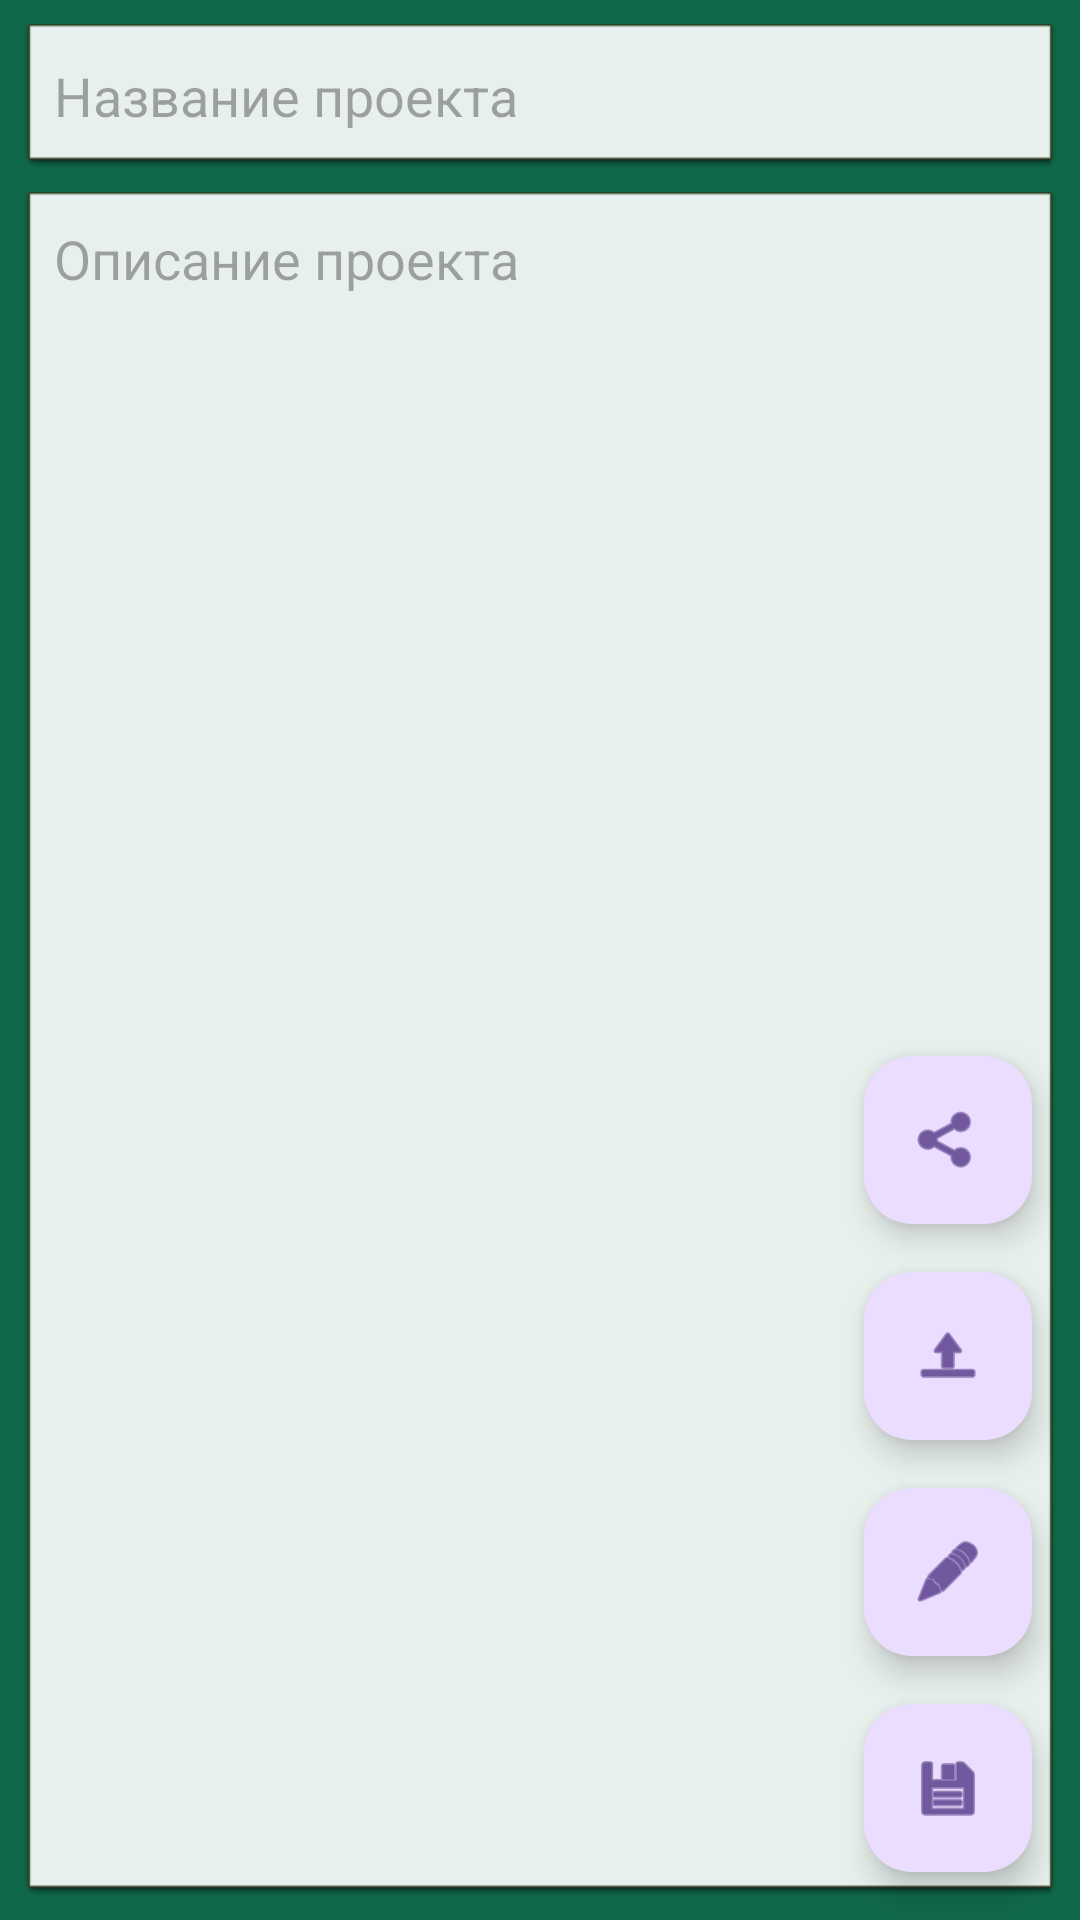

Where to tap for icons on this 1080px x 1920px app screen, as (x=x, y=y):
edit: (x=948, y=1572)
save: (x=948, y=1788)
share: (x=948, y=1140)
